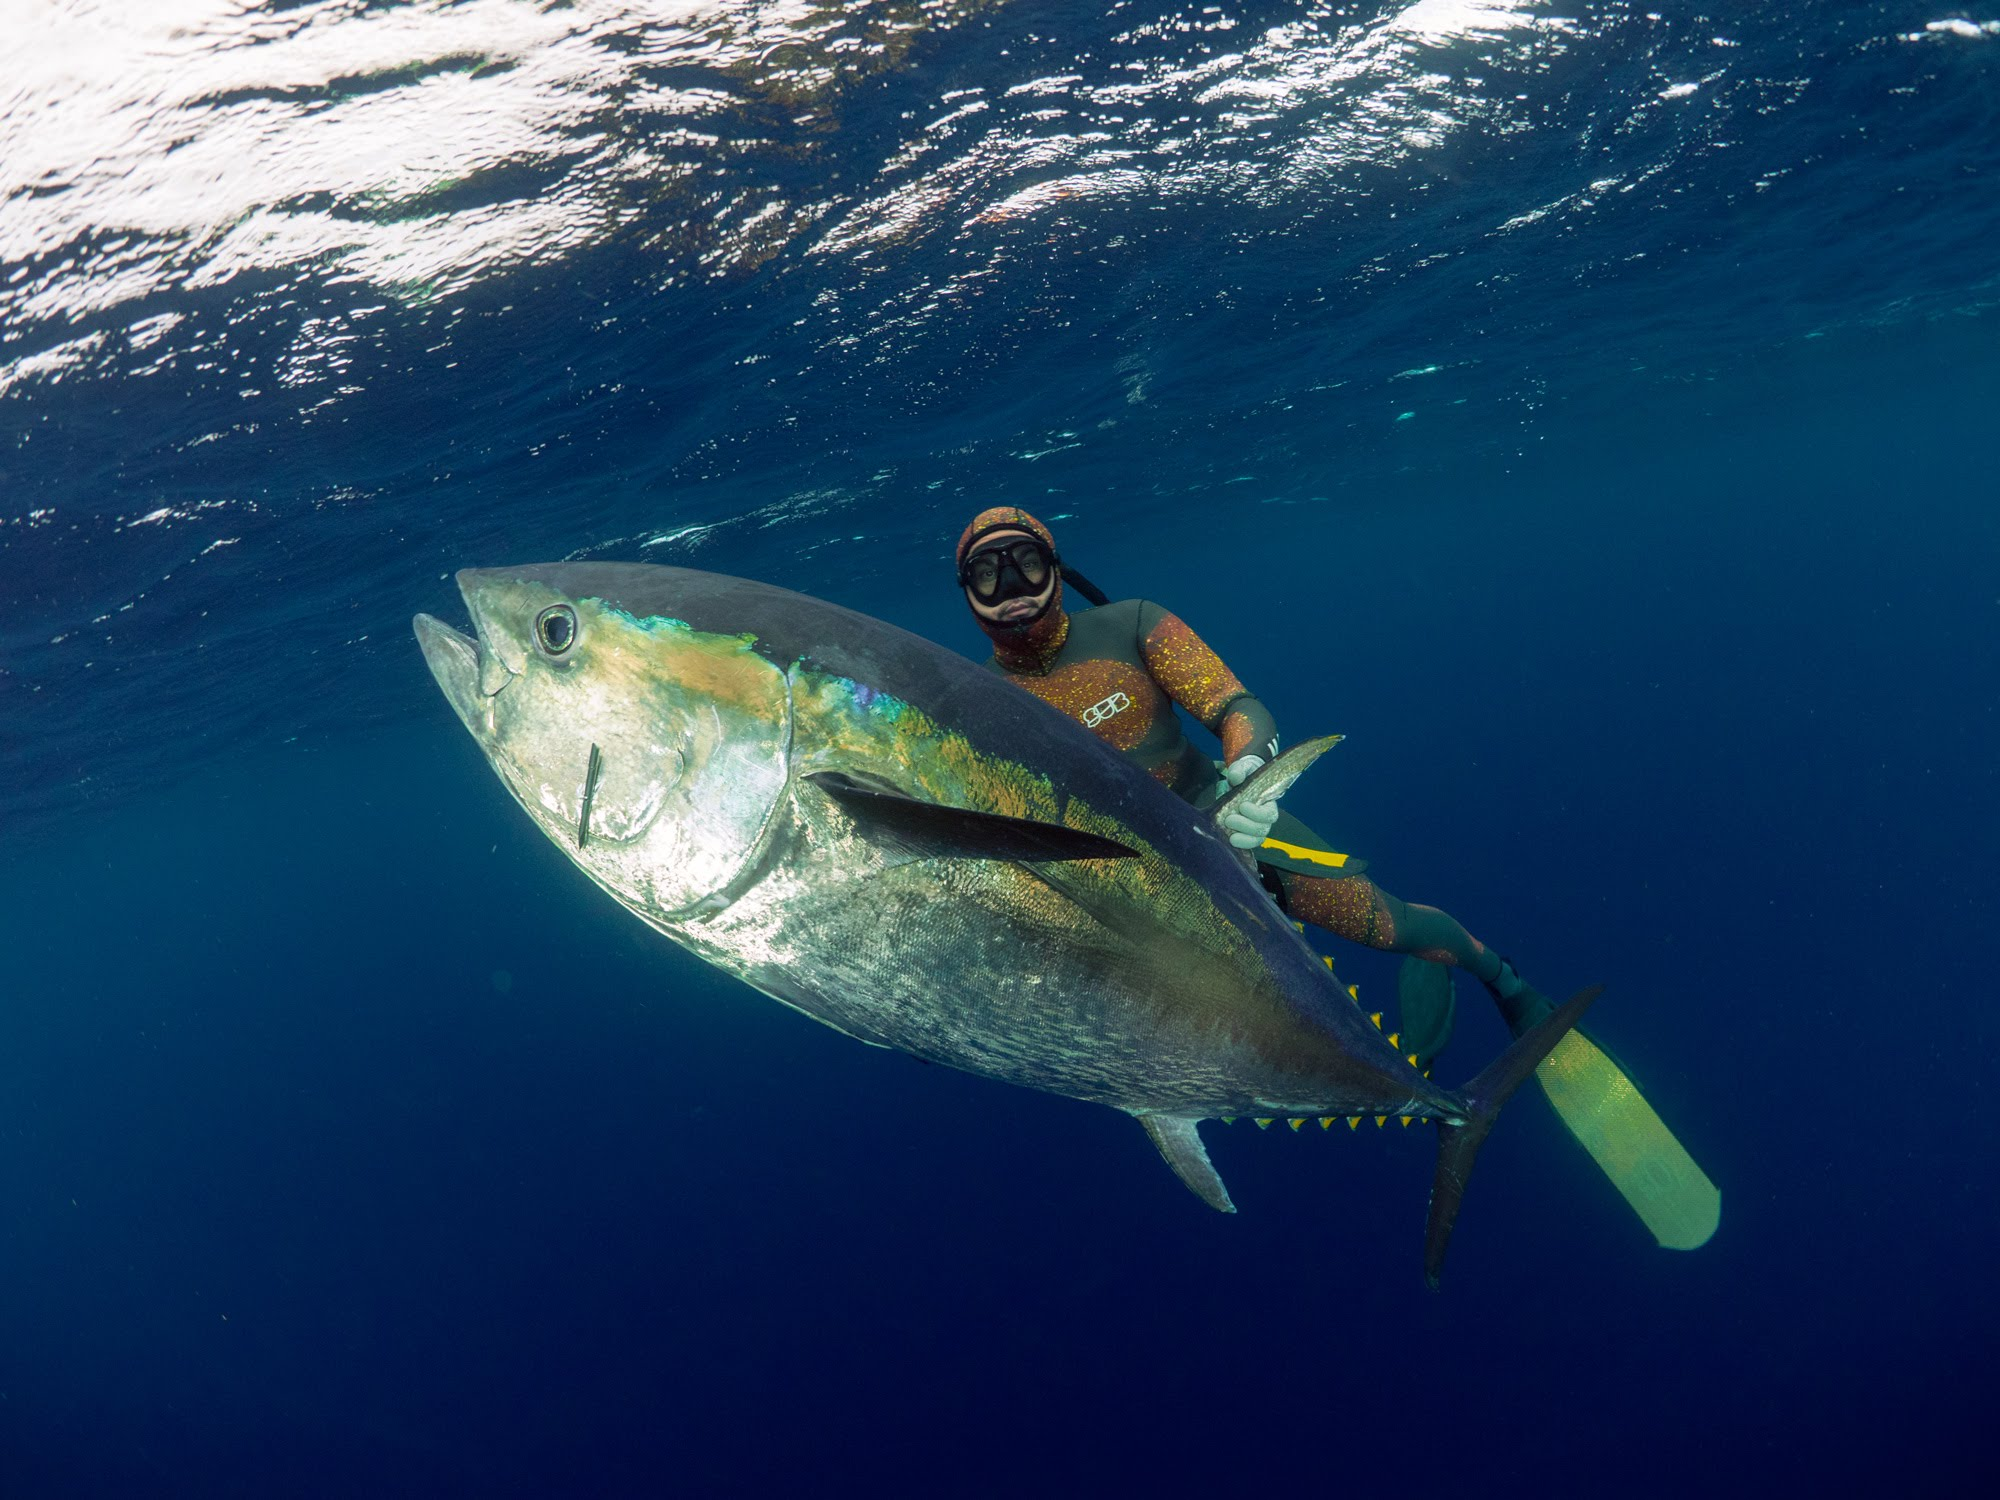Bluefina Tuna: (384, 518, 1572, 1283)
